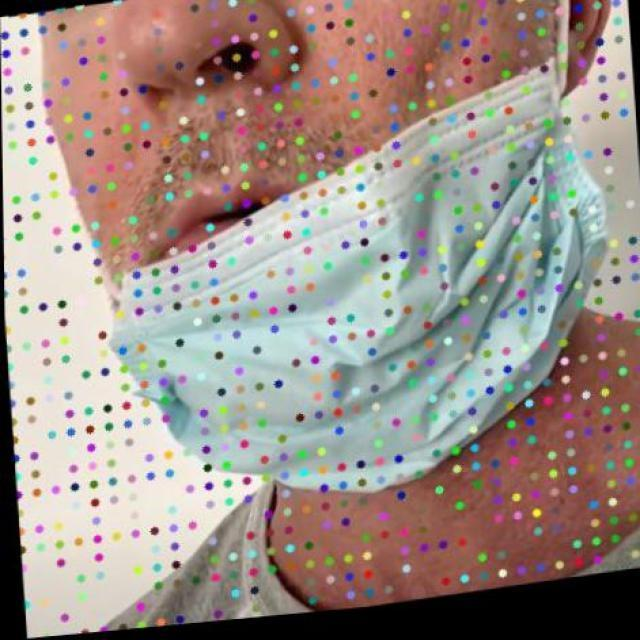hairnet: (36, 0, 618, 535)
